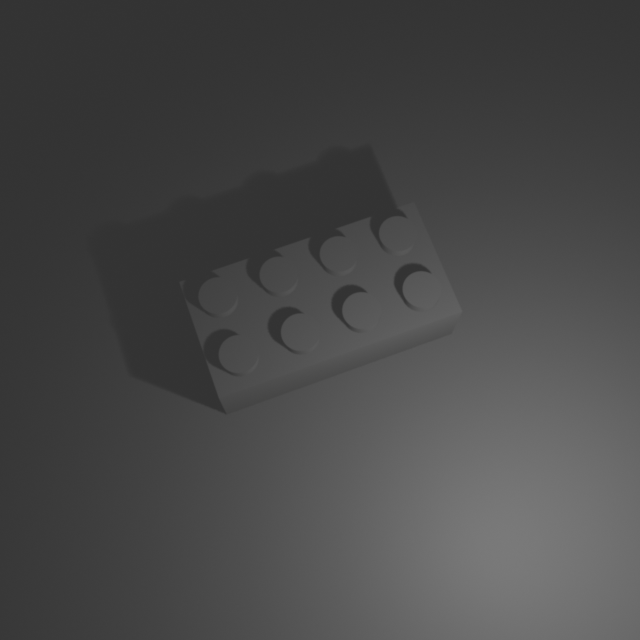lego_2x4: (177, 197, 464, 415)
